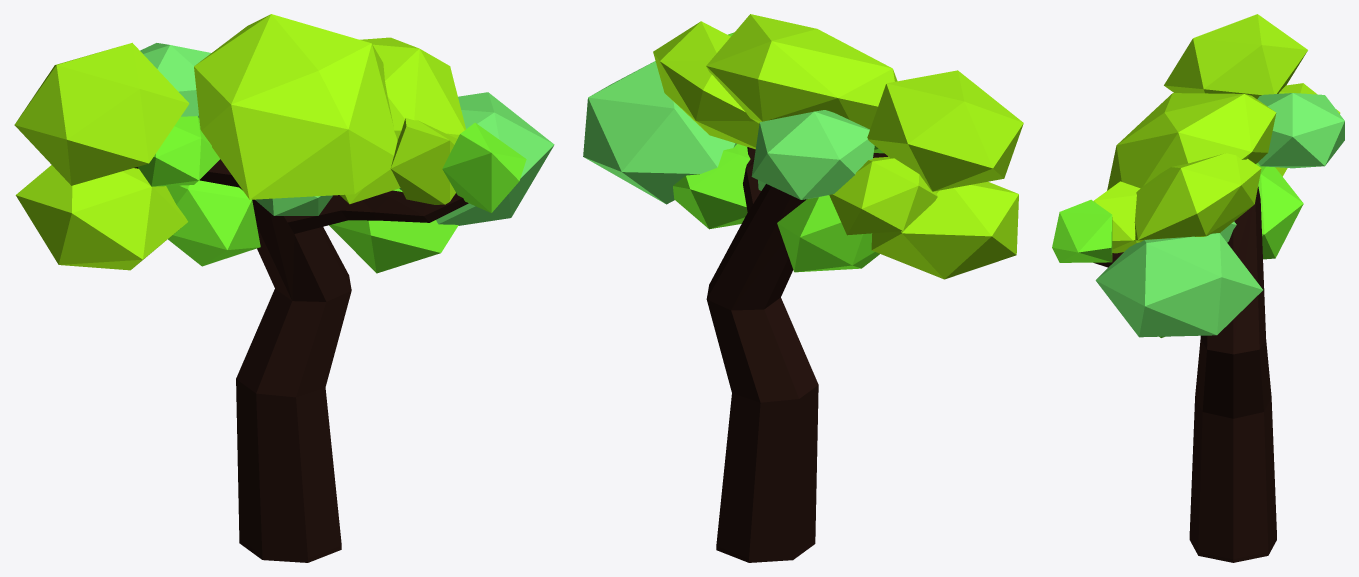
File: 세계수3.fbx
3 renders of one model, left to right at view 1: azimuth 30°, elevation 25°; view 2: azimuth 150°, elevation 25°; view 3: azimuth 270°, elevation 25°, orthographic. The views are drawn at different scales.
Parts seen in each view (by area): view 1: Cylinder001; view 2: Cylinder001; view 3: Cylinder001.
Boxes of the visible parts, x1=… form: Cylinder001: x1=14, y1=14, x2=554, y2=562; Cylinder001: x1=583, y1=14, x2=1023, y2=562; Cylinder001: x1=1052, y1=14, x2=1344, y2=562.
Bounding box in the file's own units: 615 × 662 × 396.
